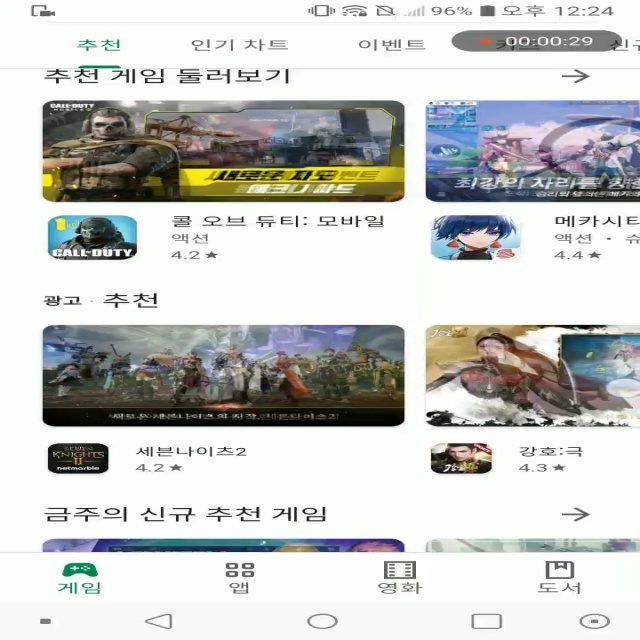Cursor: (603, 377, 640, 400)
